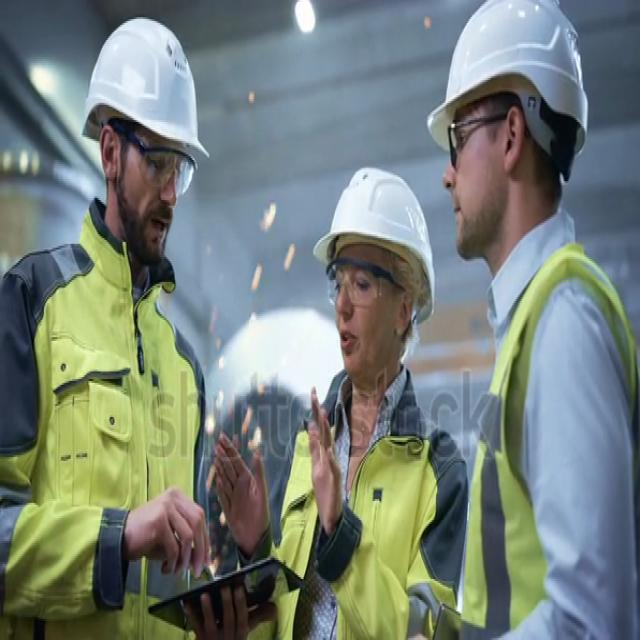goggles: (324, 253, 410, 314), (445, 100, 514, 167), (124, 137, 196, 195)
